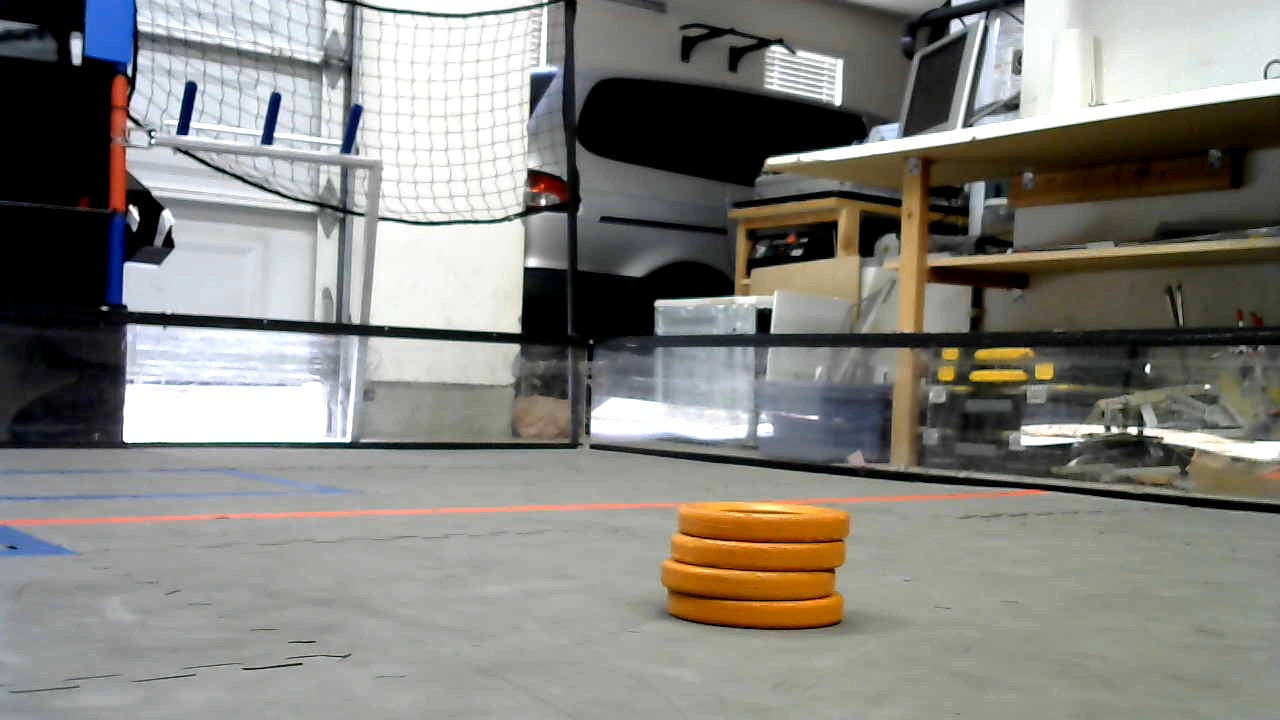FourStack: (663, 501, 849, 626)
